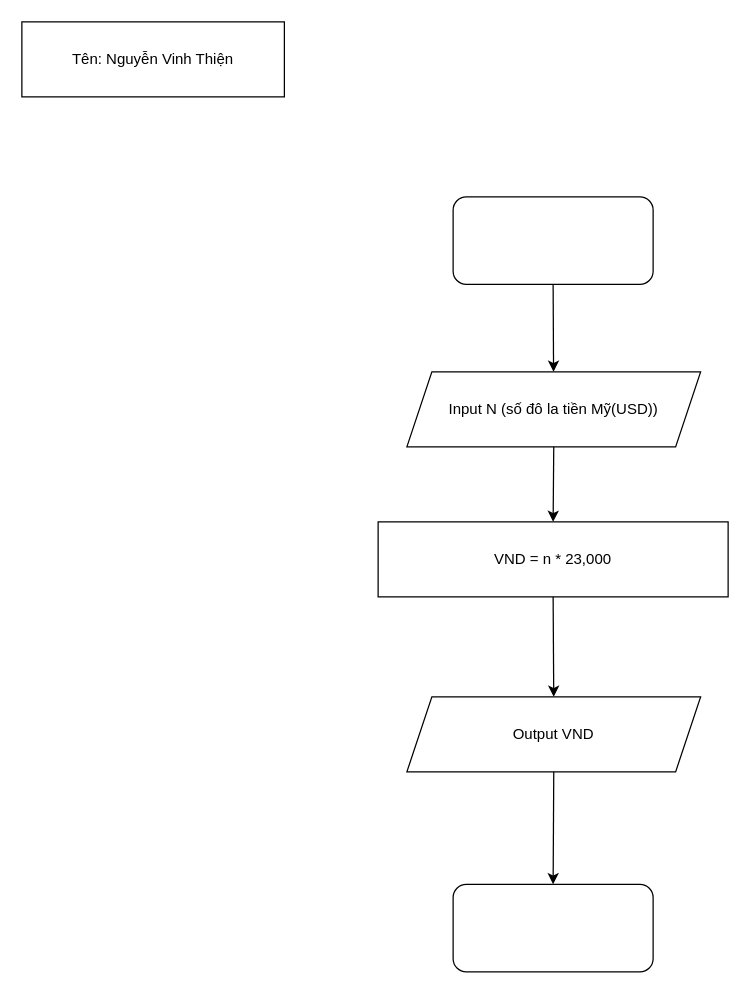
This 750x994 diagram has some shape labels left out. The centre of each missing label's shape, as x and y in pixels:
"Begin" belongs at [552,240].
"End" belongs at [552,927].
